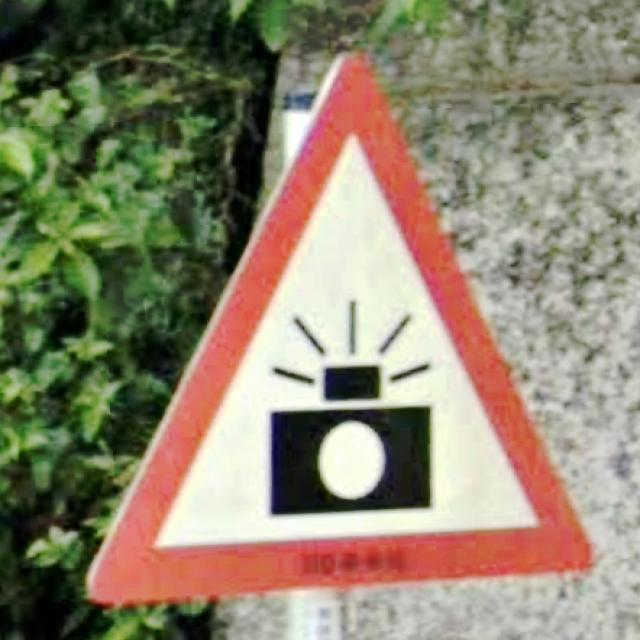speedcamera: (88, 55, 595, 605)
